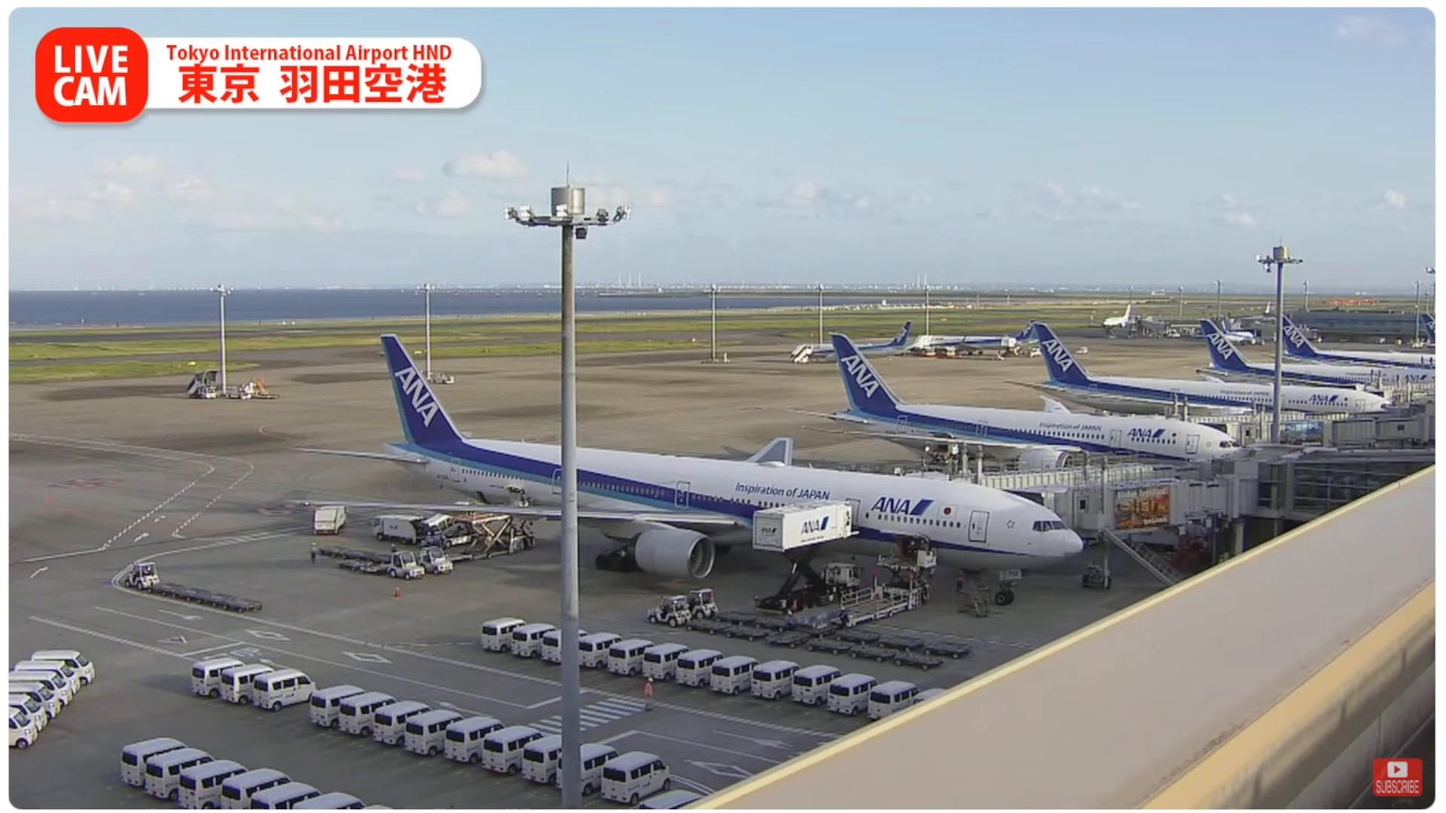Aerobridge: (990, 474, 1217, 523), (903, 458, 1204, 486)
Airplane: (290, 334, 1076, 584)
Baggage truck: (371, 518, 425, 543), (312, 506, 348, 534)
Catering: (751, 501, 860, 615)
Dolly: (686, 618, 947, 672), (709, 610, 974, 660), (144, 582, 263, 612), (320, 545, 391, 564), (339, 560, 389, 575)
JCPL: (823, 551, 944, 634), (429, 502, 537, 563)
Skyloader: (420, 510, 487, 544)
Tractor: (649, 595, 697, 627), (419, 546, 455, 576), (683, 589, 719, 618), (385, 552, 423, 579), (123, 563, 161, 587)
Window: (1253, 443, 1435, 520)
